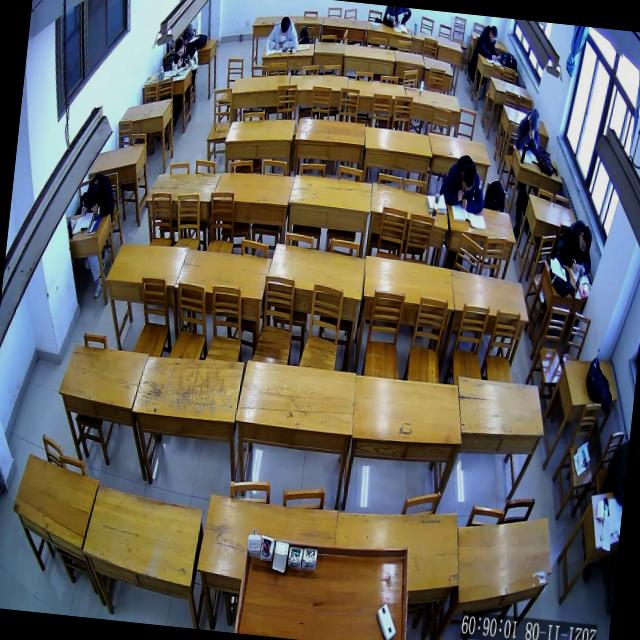bow: (438, 152, 488, 213), (80, 171, 116, 222), (265, 14, 300, 52), (168, 61, 188, 79)
down: (460, 163, 476, 193), (578, 224, 593, 253), (86, 182, 100, 208), (527, 109, 540, 133), (279, 16, 290, 36), (174, 38, 185, 56), (488, 25, 498, 43)
sit: (552, 217, 595, 274), (515, 107, 542, 152), (475, 23, 504, 61), (170, 36, 200, 72)
